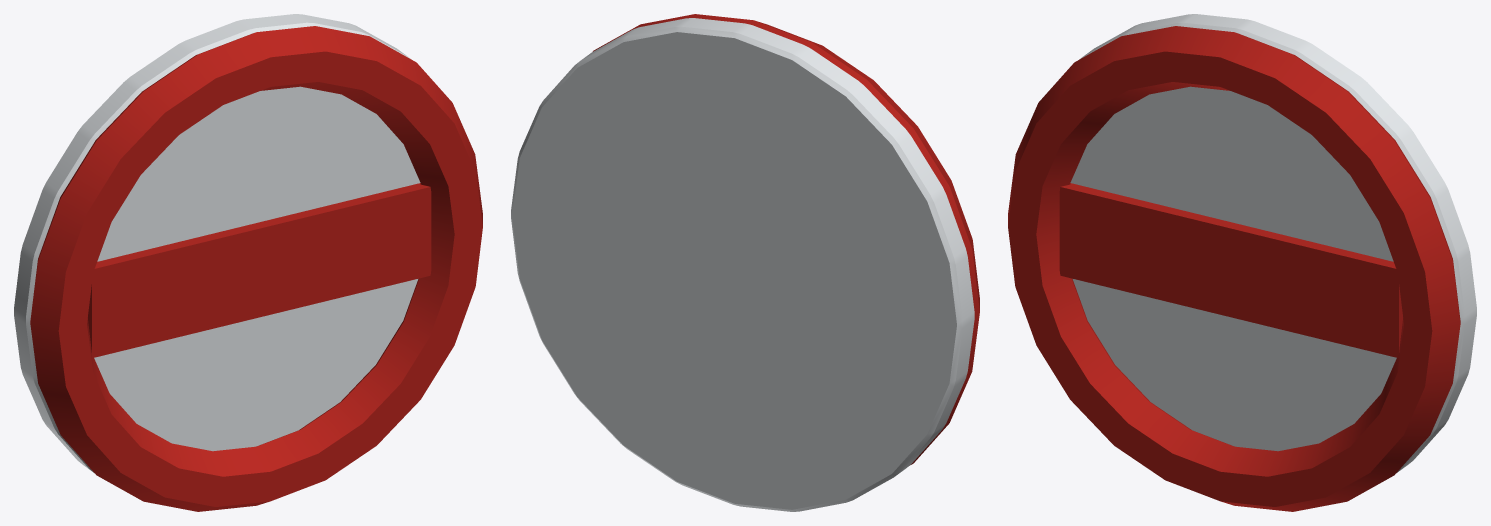
Rendered from sign_no_entry.glb.
3 renders of one model, left to right at view 1: azimuth 30°, elevation 25°; view 2: azimuth 150°, elevation 25°; view 3: azimuth 330°, elevation 25°, orthographic.
Parts seen in each view (by area): view 1: sign_no_entry; view 2: sign_no_entry; view 3: sign_no_entry.
Boxes of the visible parts, x1=… form: sign_no_entry: x1=14, y1=14, x2=482, y2=511; sign_no_entry: x1=511, y1=14, x2=979, y2=511; sign_no_entry: x1=1008, y1=14, x2=1476, y2=511.
Size of the model in its own units: 0.48 by 0.48 by 0.061.
